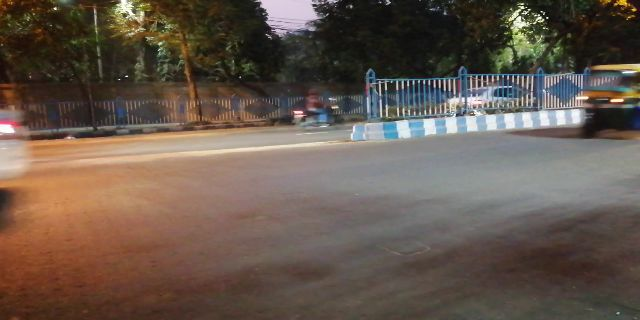Autorickshaw: (577, 62, 637, 134)
